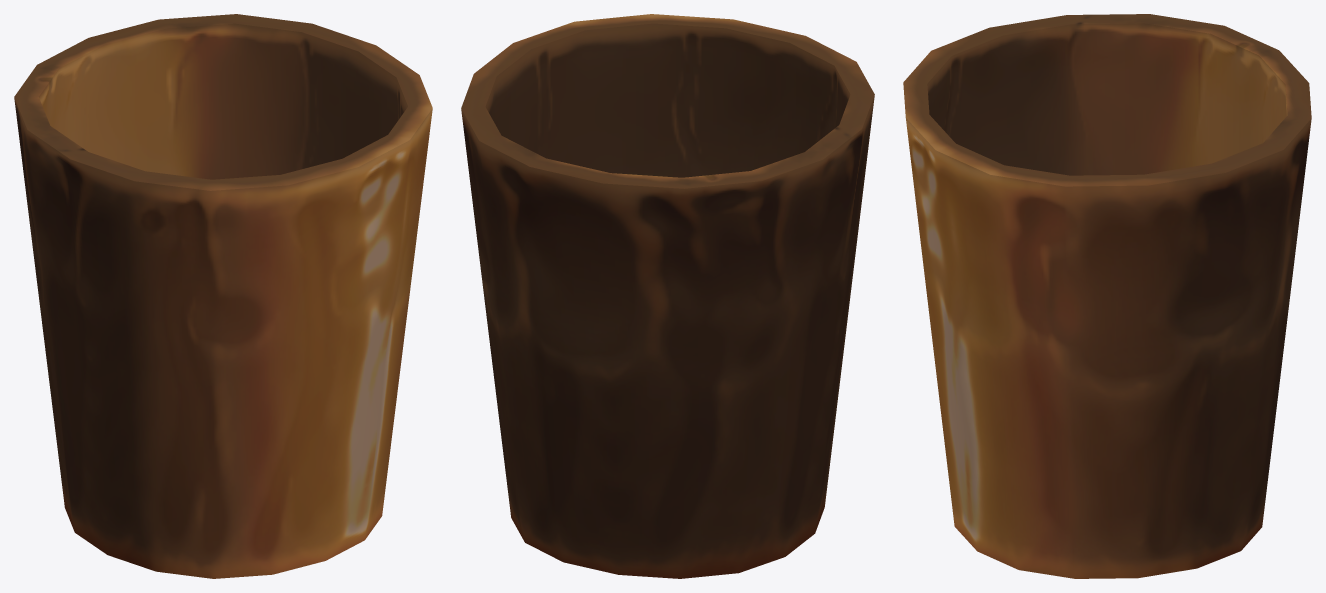
Rendered from Bin.glb.
3 renders of one model, left to right at view 1: azimuth 30°, elevation 25°; view 2: azimuth 150°, elevation 25°; view 3: azimuth 270°, elevation 25°, orthographic.
Parts seen in each view (by area): view 1: BinLP; view 2: BinLP; view 3: BinLP.
Part boxes in pixels (x1,y1,x2,y2): BinLP: (14, 14, 432, 578); BinLP: (461, 14, 874, 578); BinLP: (903, 14, 1311, 578).
Size of the model in its own units: 0.4257 by 0.4762 by 0.4257.
1 material, 1 textured.
